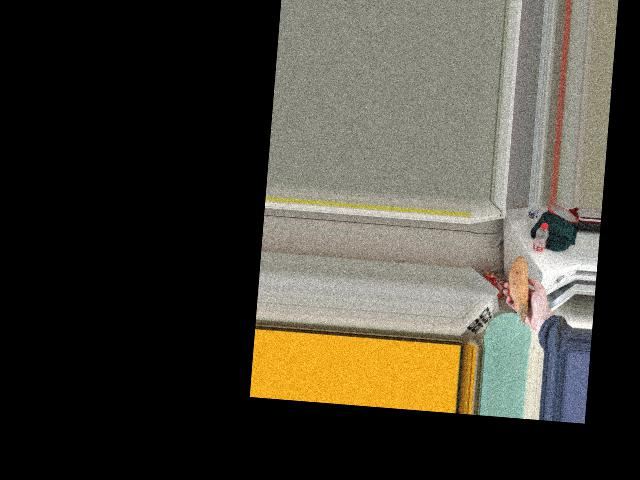sweet_potato: (505, 262, 533, 317)
